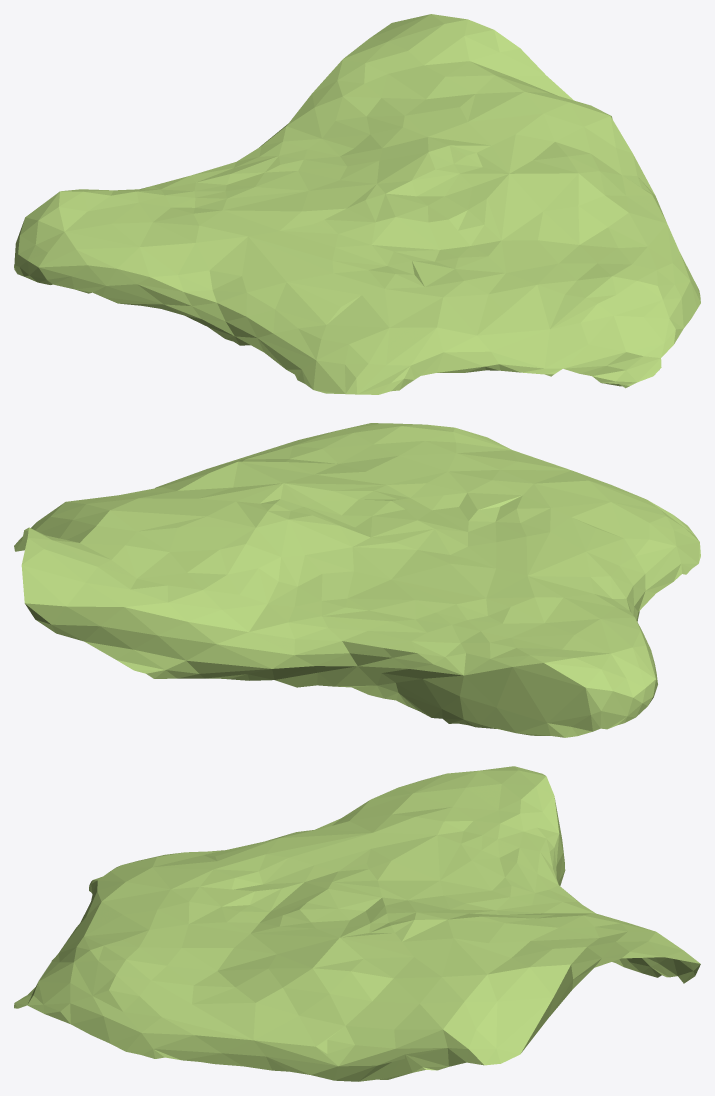
Rendered from hill_010.glb.
3 renders of one model, top to bottom at view 1: azimuth 30°, elevation 25°; view 2: azimuth 150°, elevation 25°; view 3: azimuth 270°, elevation 25°, orthographic. The views are drawn at different scales.
Visible parts, largest first — view 1: hill_010; view 2: hill_010; view 3: hill_010.
Part boxes in pixels (<box>): hill_010: <box>14,14,700,394</box>; hill_010: <box>14,423,700,737</box>; hill_010: <box>14,766,700,1081</box>.
Size of the model in its own units: 82.47 by 15.31 by 83.16.
1 material, 1 textured.
